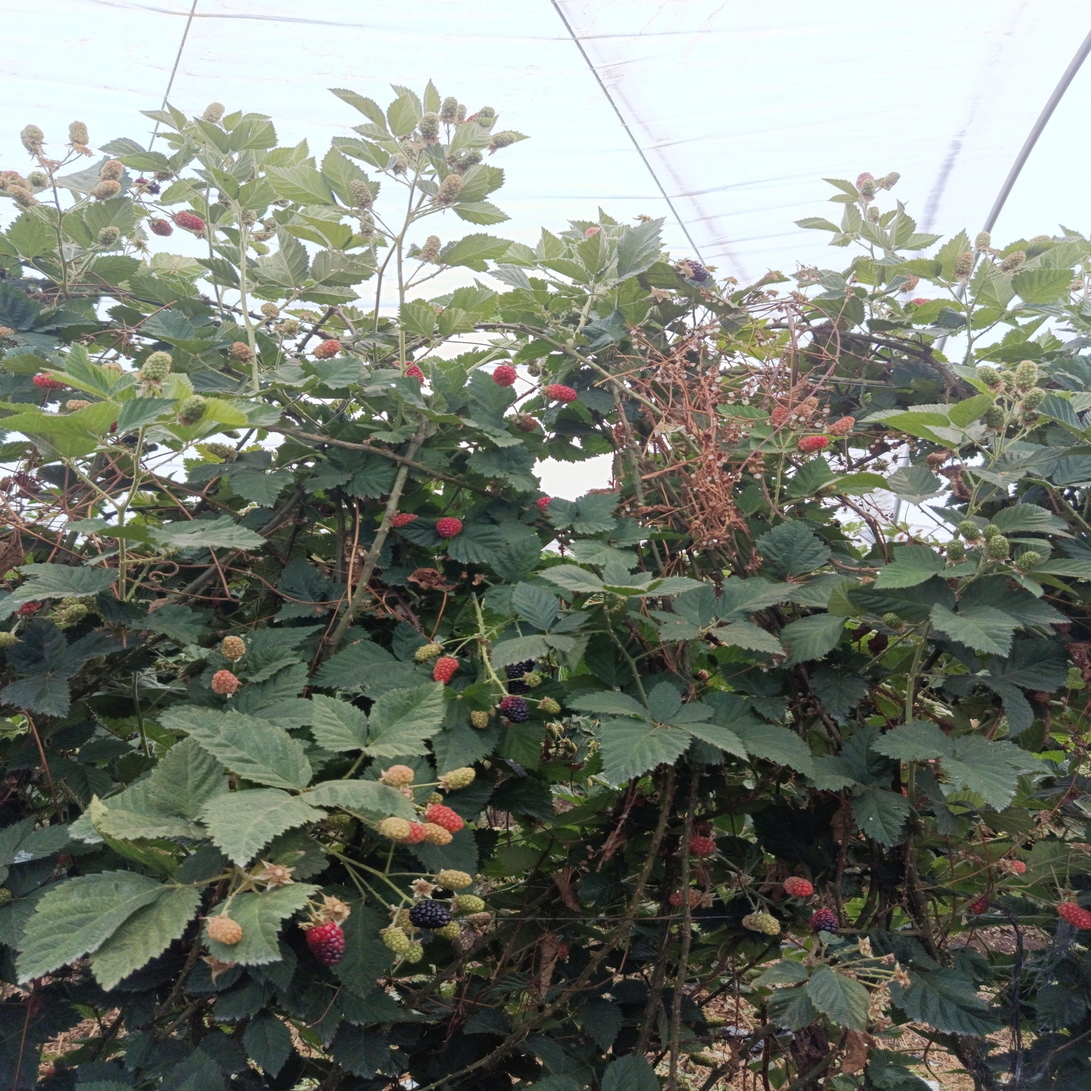maduro: (676, 259, 709, 283)
marron: (306, 922, 345, 966), (498, 695, 529, 723), (810, 909, 839, 933)
naranja: (424, 804, 464, 833), (1057, 902, 1091, 929), (433, 656, 459, 685), (211, 670, 240, 695), (174, 212, 206, 234), (690, 833, 716, 857), (827, 416, 856, 437), (545, 384, 577, 403), (783, 876, 813, 896), (798, 435, 829, 454), (491, 365, 518, 386), (313, 339, 341, 359), (435, 517, 462, 537), (402, 822, 426, 844), (33, 374, 66, 389), (770, 406, 791, 427), (231, 342, 253, 362), (515, 414, 538, 433), (405, 363, 424, 383), (392, 513, 417, 528), (17, 602, 43, 616), (855, 172, 873, 189), (688, 888, 702, 908), (536, 496, 552, 513), (669, 891, 682, 907), (910, 298, 932, 306)
verde: (207, 914, 243, 945), (140, 351, 172, 382), (379, 925, 411, 954), (435, 174, 464, 205), (438, 767, 475, 791), (742, 912, 780, 935), (178, 395, 207, 425), (447, 150, 482, 173), (379, 765, 414, 788), (6, 183, 38, 208), (69, 121, 91, 156), (378, 817, 410, 841), (20, 124, 44, 155), (349, 179, 373, 210), (436, 869, 473, 889), (1014, 360, 1038, 390), (58, 603, 88, 627), (418, 112, 440, 144), (220, 636, 246, 661), (489, 131, 517, 154), (424, 822, 452, 845), (452, 895, 484, 915), (1013, 550, 1042, 572), (975, 365, 1001, 389), (981, 404, 1005, 429), (505, 659, 535, 679), (999, 250, 1026, 272), (419, 235, 440, 263), (954, 252, 975, 280), (414, 642, 442, 663), (91, 180, 120, 200), (1022, 386, 1046, 409), (988, 535, 1010, 560), (201, 102, 225, 124), (439, 96, 458, 123), (434, 922, 461, 941), (957, 520, 981, 541), (273, 318, 299, 337), (98, 226, 120, 248), (100, 160, 124, 180), (402, 943, 424, 964), (27, 171, 48, 192), (877, 171, 900, 190), (882, 612, 905, 631), (149, 218, 173, 236), (858, 177, 876, 200), (947, 540, 965, 563), (539, 697, 560, 715), (395, 908, 413, 929), (470, 710, 489, 729), (1000, 371, 1015, 394), (974, 231, 990, 251), (982, 523, 1002, 539), (66, 399, 91, 411), (524, 672, 542, 688), (240, 209, 256, 225), (477, 107, 496, 120), (261, 217, 278, 231)
